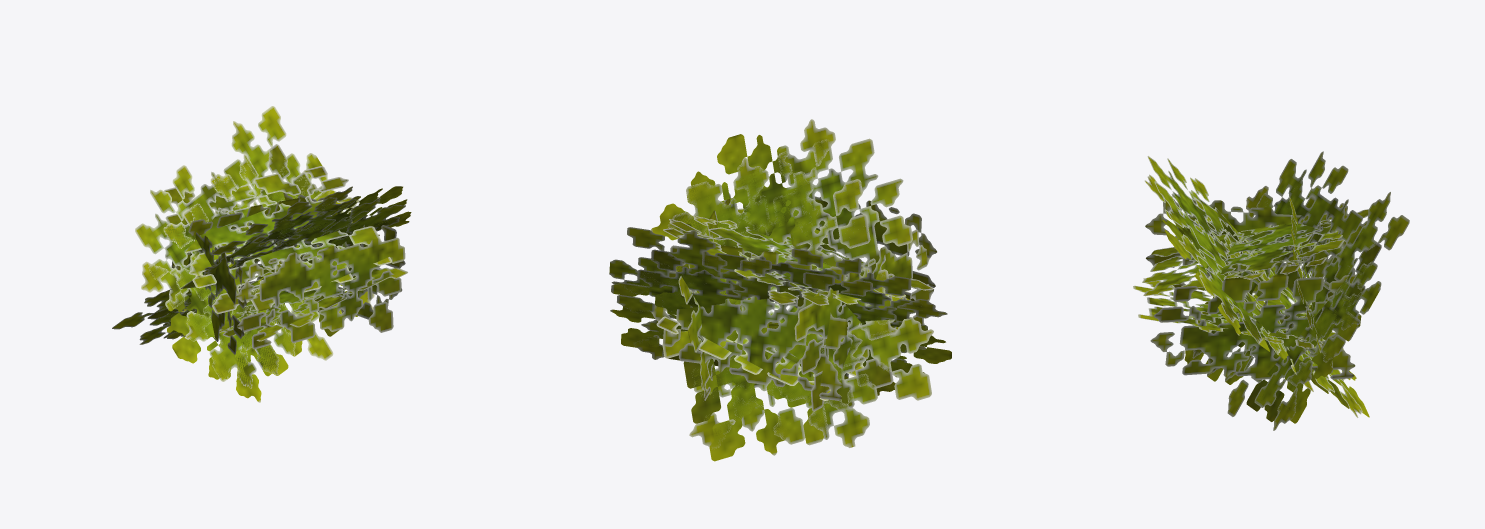
The model's file is linden_leaves_yellowish_slab_upper.obj.
3 renders of one model, left to right at view 1: azimuth 30°, elevation 25°; view 2: azimuth 150°, elevation 25°; view 3: azimuth 270°, elevation 25°, orthographic. The views are drawn at different scales.
Visible parts, largest first — view 1: cube; view 2: cube; view 3: cube.
Part boxes in pixels (x1=…): cube: x1=112, y1=106, x2=411, y2=402; cube: x1=609, y1=119, x2=951, y2=461; cube: x1=1133, y1=151, x2=1409, y2=430.
Bounding box in the file's own units: 2.99 × 2.22 × 2.1.
